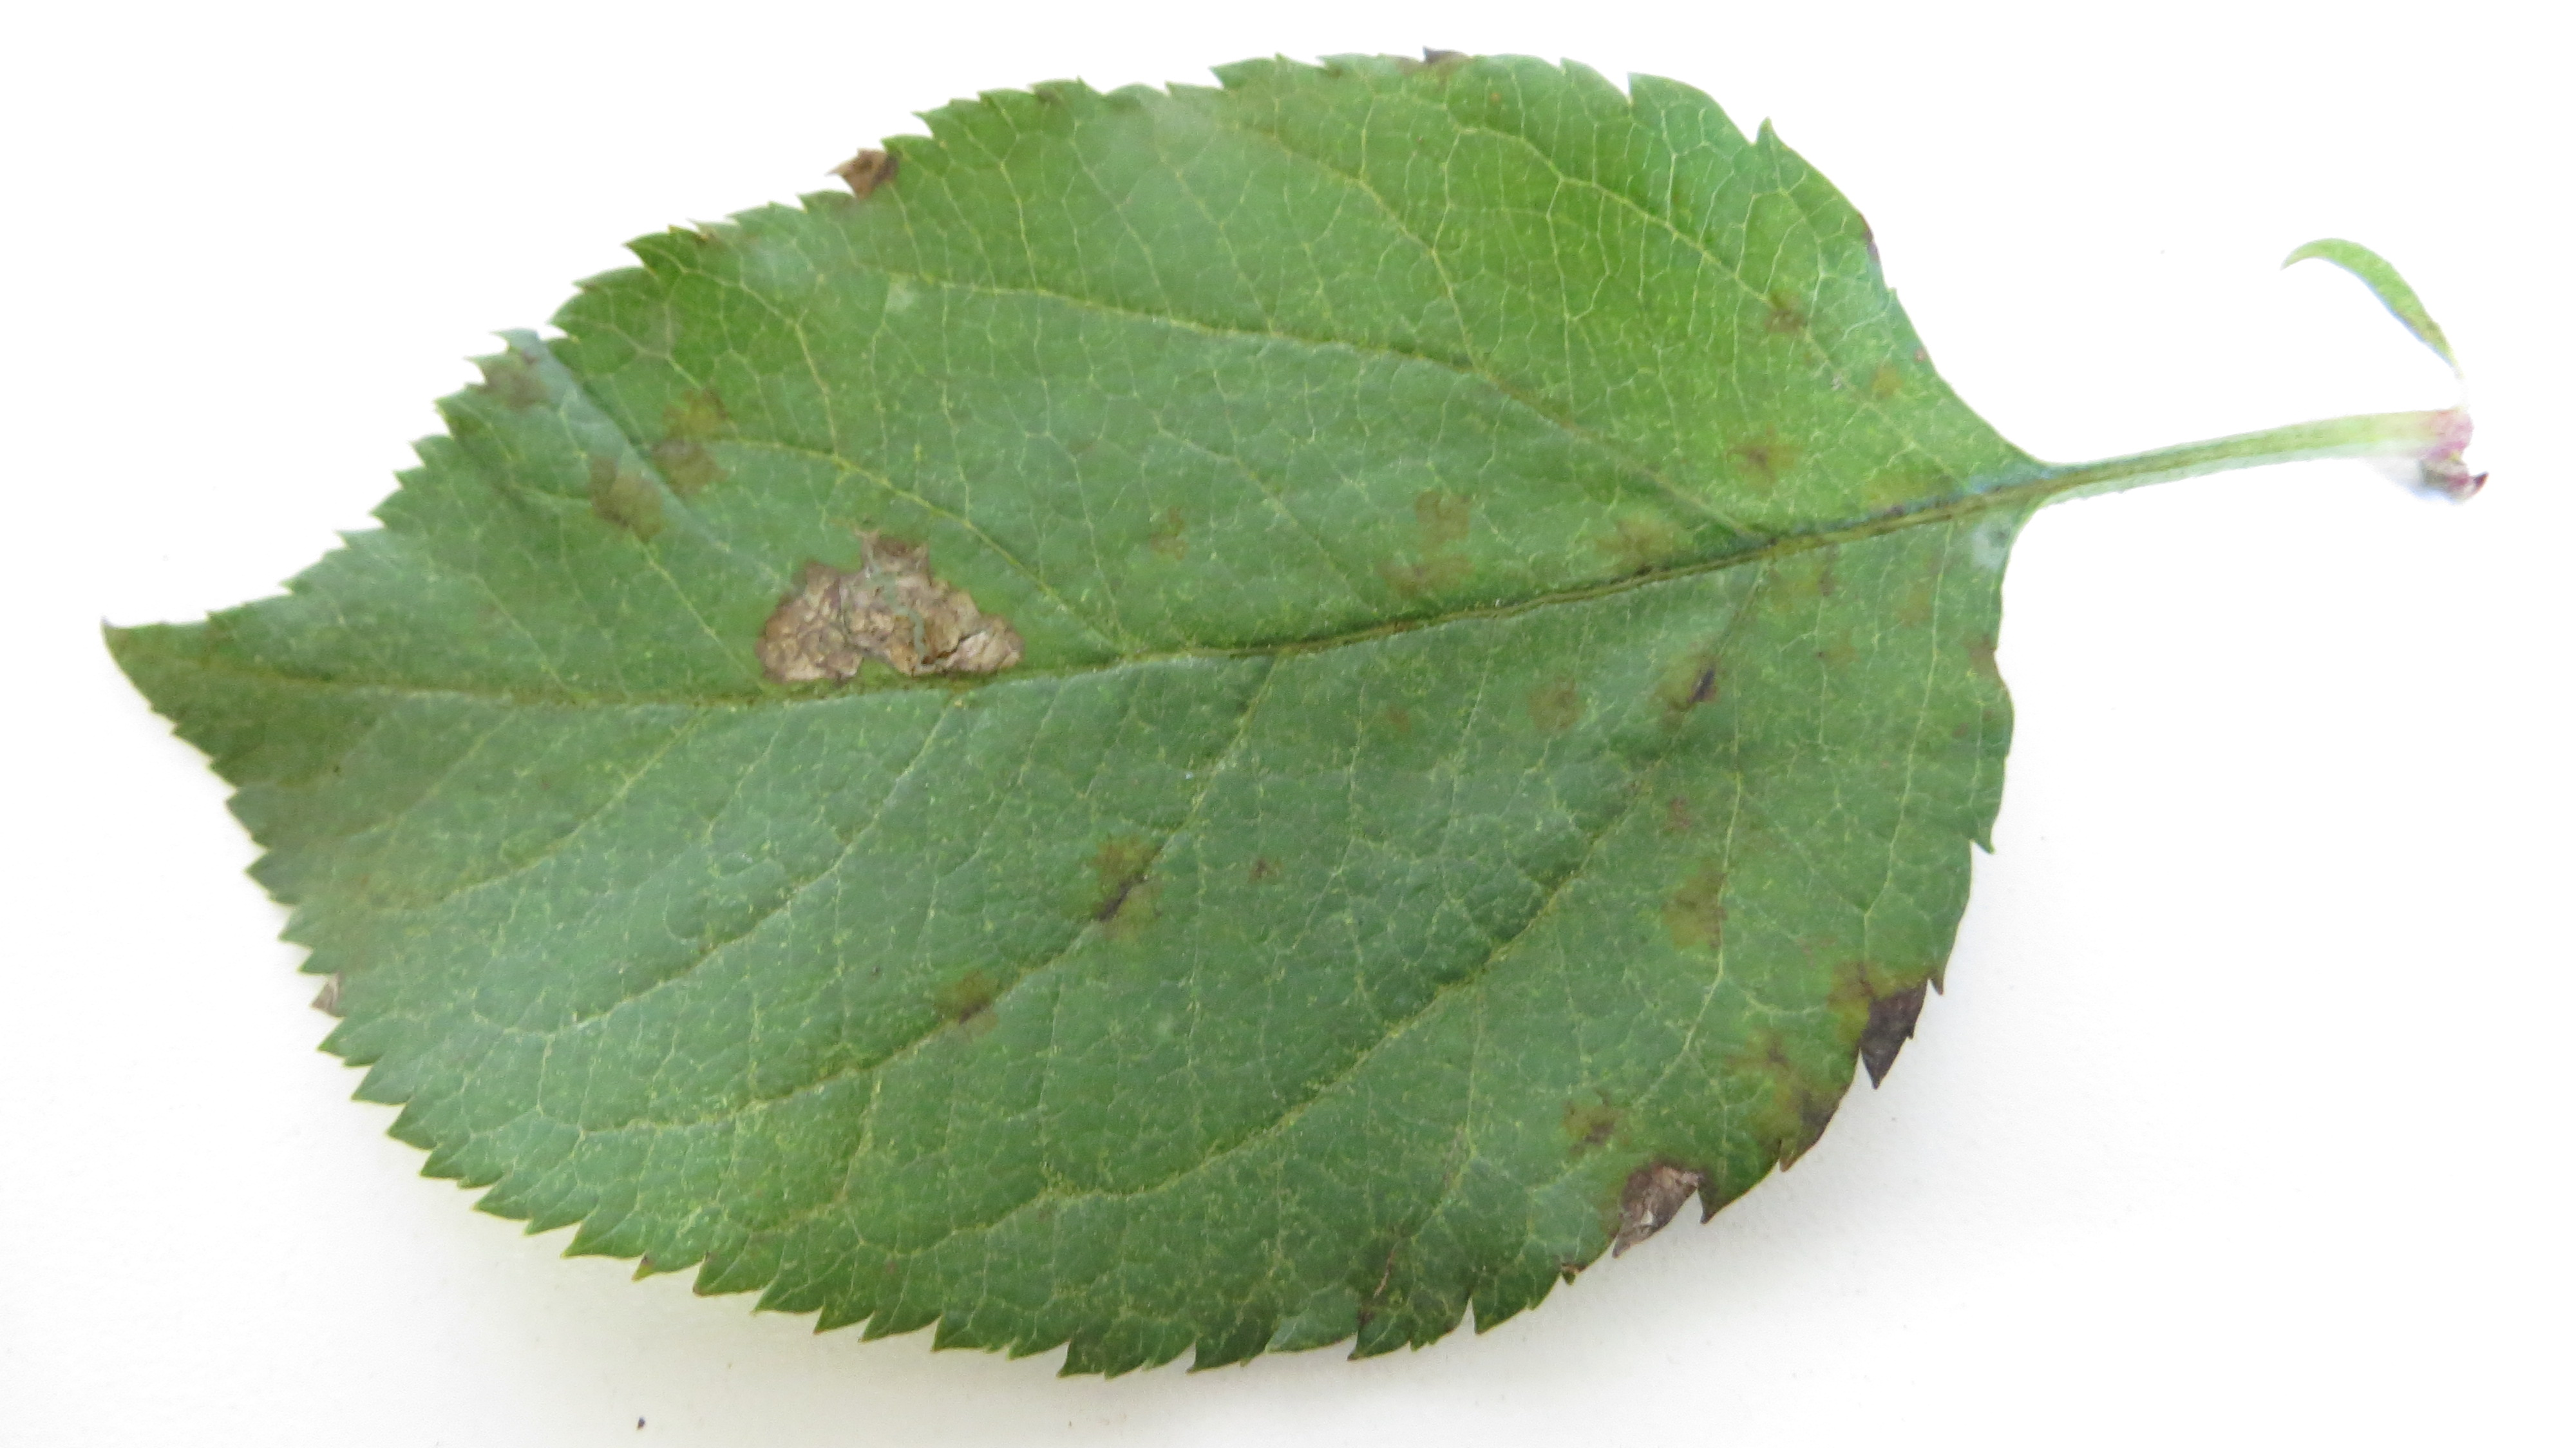sarna: (743, 524, 1019, 706), (1364, 464, 1490, 618), (1713, 1018, 1822, 1165), (1836, 441, 1953, 556), (1808, 945, 1925, 1055), (573, 437, 671, 558), (1076, 820, 1162, 945), (1702, 404, 1803, 512), (658, 375, 743, 501), (1580, 499, 1695, 591), (1752, 508, 1852, 604), (1511, 653, 1601, 759), (916, 949, 1008, 1050), (1638, 860, 1736, 954), (1612, 1147, 1716, 1230), (1640, 634, 1723, 724), (1541, 1069, 1631, 1145), (824, 126, 904, 211), (1842, 336, 1905, 414), (1757, 280, 1815, 356)
